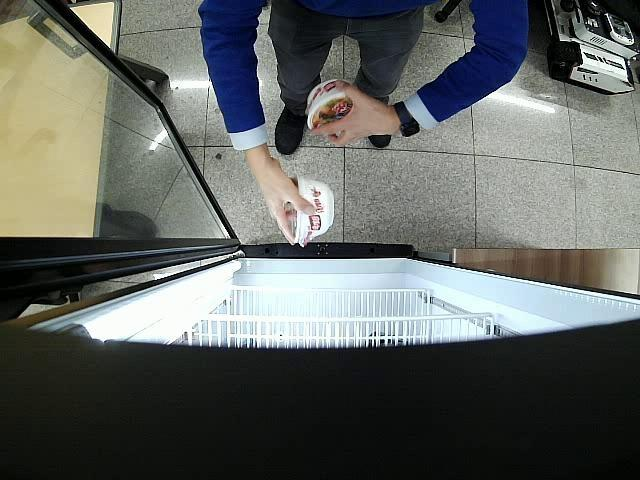09_yukGaeJang: (283, 174, 335, 246), (308, 80, 352, 130)
